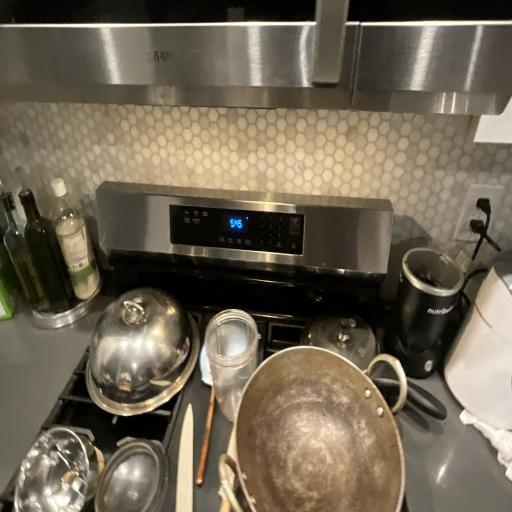Pan: (209, 330, 413, 512)
Stove: (44, 164, 420, 512)
knife: (170, 390, 204, 512)
